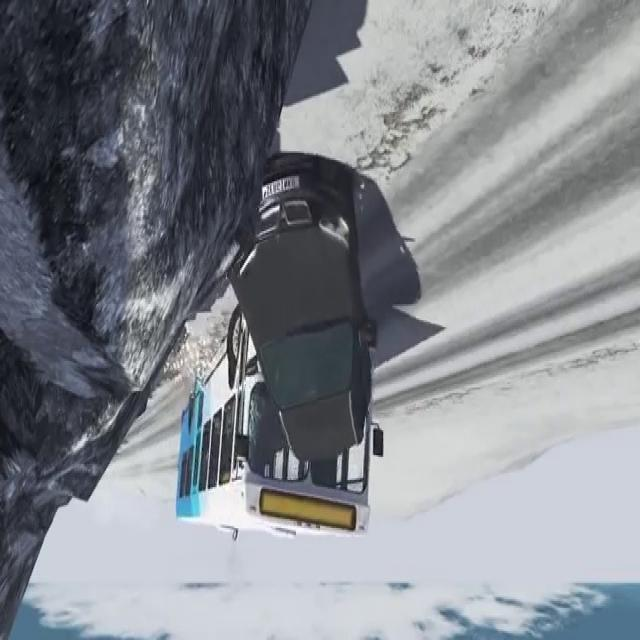severe: (166, 153, 385, 559)
